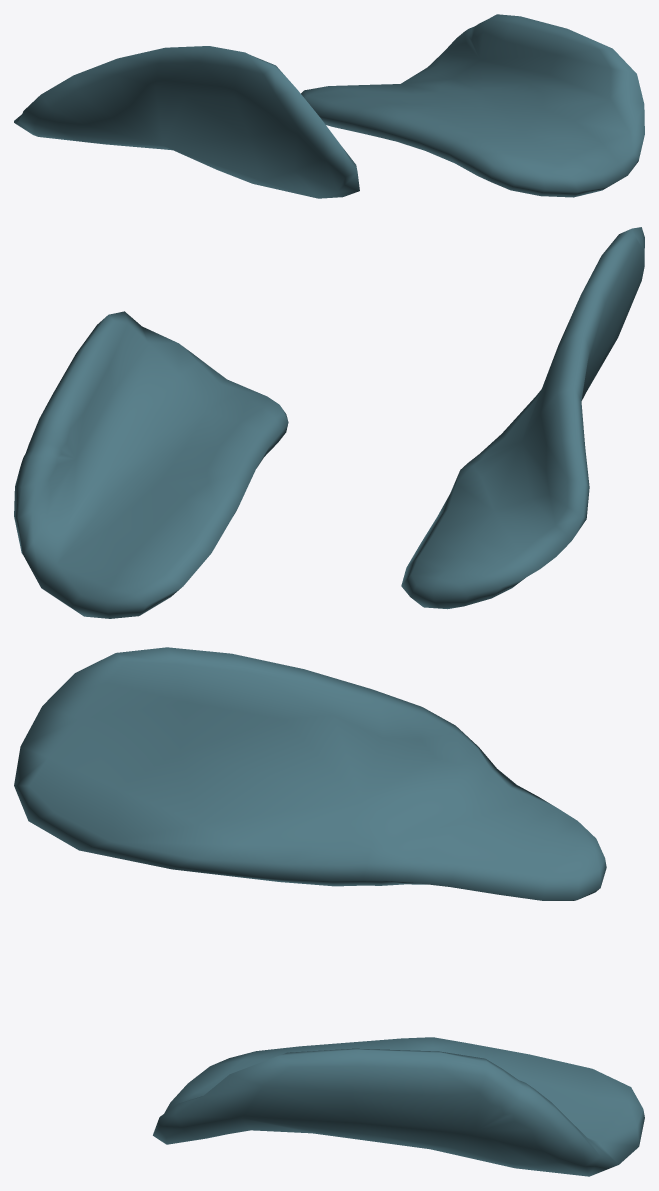
Rendered from Flexor_digitorum_brevis_2nd_medial_phalanx_left.glb.
3 renders of one model, top to bottom at view 1: azimuth 30°, elevation 25°; view 2: azimuth 150°, elevation 25°; view 3: azimuth 270°, elevation 25°, orthographic. The views are drawn at different scales.
Parts seen in each view (by area): view 1: Flexor_digitorum_brevis_on_2d_medial_phalanx.l_Generated_Mes; view 2: Flexor_digitorum_brevis_on_2d_medial_phalanx.l_Generated_Mes; view 3: Flexor_digitorum_brevis_on_2d_medial_phalanx.l_Generated_Mes.
Part boxes in pixels (x1=…): Flexor_digitorum_brevis_on_2d_medial_phalanx.l_Generated_Mes: x1=14, y1=14, x2=644, y2=198; Flexor_digitorum_brevis_on_2d_medial_phalanx.l_Generated_Mes: x1=14, y1=227, x2=644, y2=618; Flexor_digitorum_brevis_on_2d_medial_phalanx.l_Generated_Mes: x1=14, y1=647, x2=644, y2=1176.
Size of the model in its own units: 0.00808 by 0.00399 by 0.00692.
